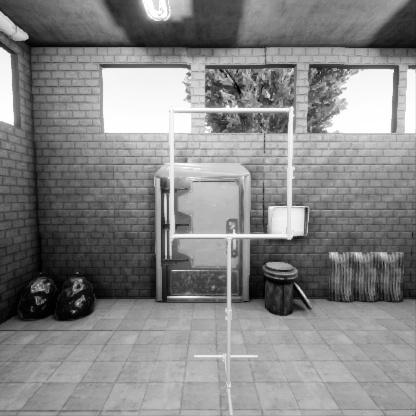gate: (167, 182, 301, 315)
